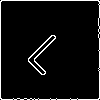L: (25, 25, 77, 77)
